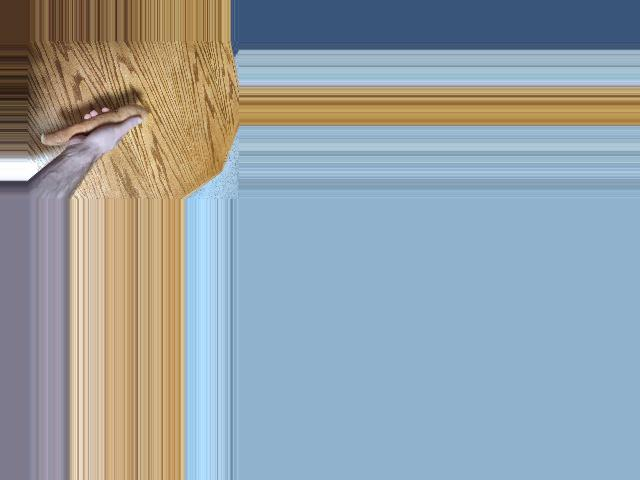sweet_potato: (39, 100, 146, 149)
